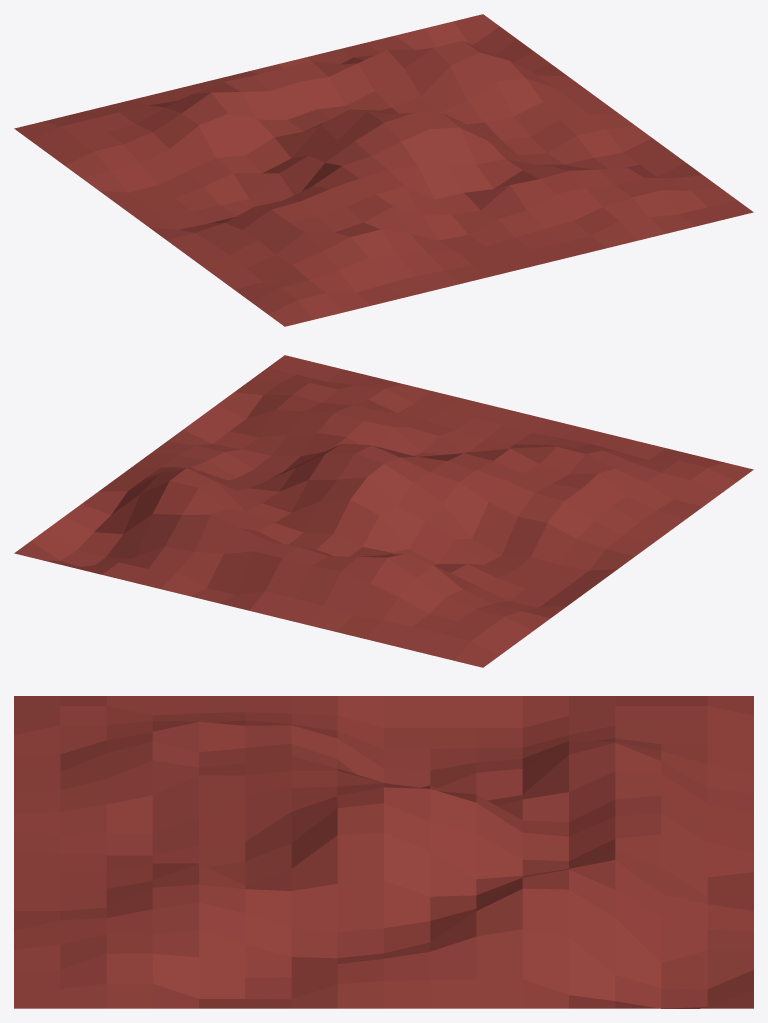
The model's file is Terrain_26_Red.fbx.
3 views of the same model, one above another, from view 1: azimuth 30°, elevation 25°; view 2: azimuth 150°, elevation 25°; view 3: azimuth 270°, elevation 25° (orthographic). The views are drawn at different scales.
Parts seen in each view (by area): view 1: Terrain_26_Red; view 2: Terrain_26_Red; view 3: Terrain_26_Red.
Boxes of the visible parts, <box> form: Terrain_26_Red: <box>14,14,753,326</box>; Terrain_26_Red: <box>14,355,753,667</box>; Terrain_26_Red: <box>14,696,753,1008</box>.
Bounding box in the file's own units: 5000 × 676 × 5000.
